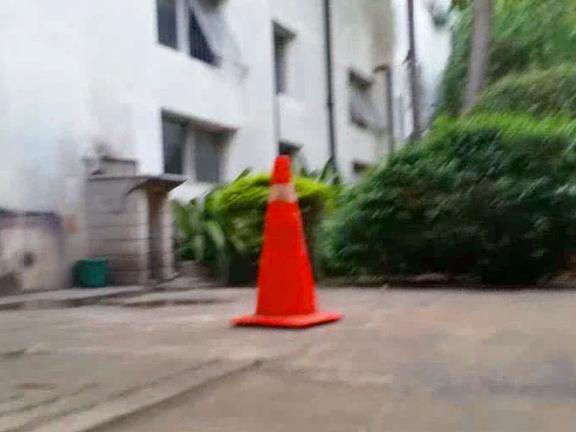0 cone: (230, 155, 343, 329)
